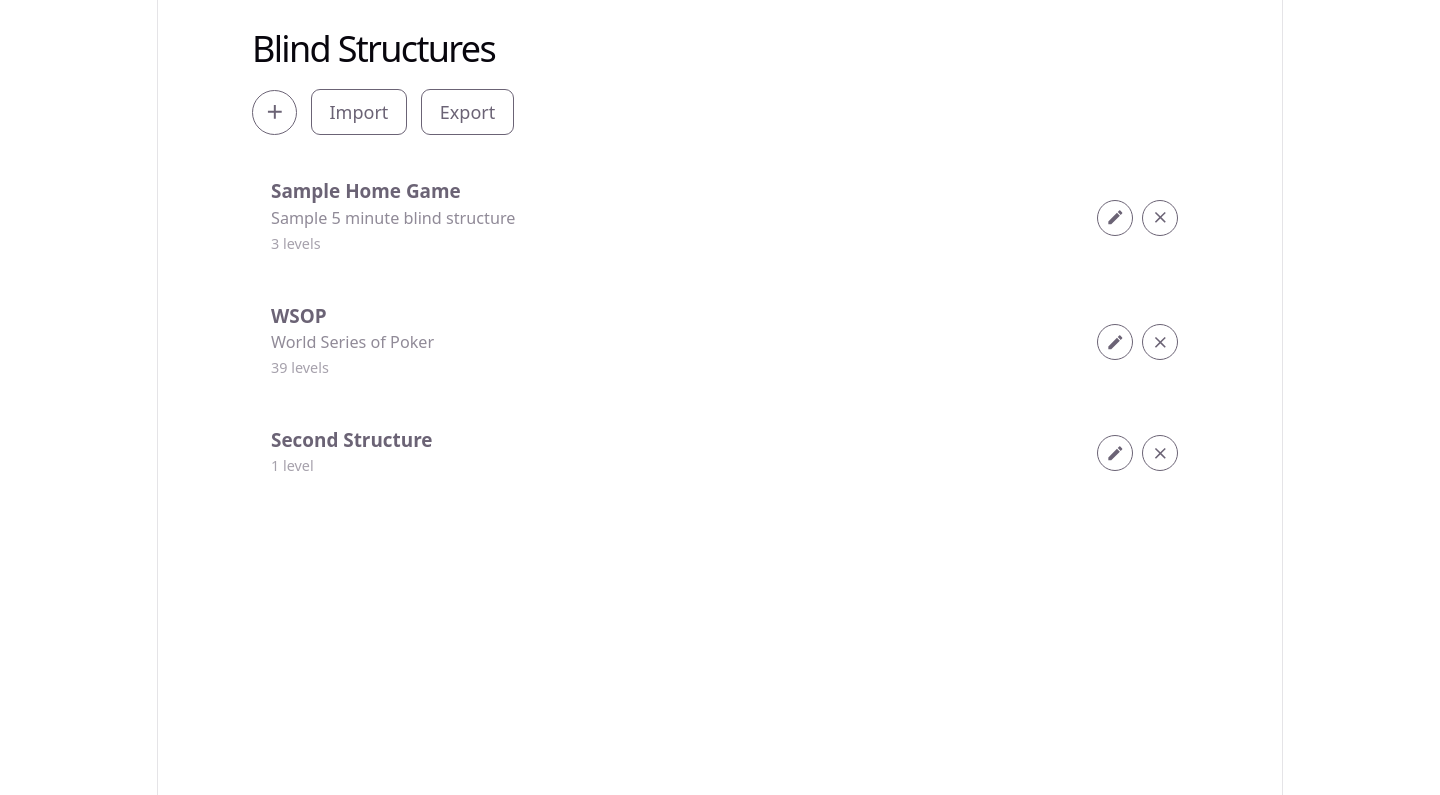
Test: SettingsPage › discards changes and proceeds when Discard is chosen in the unsaved-changes dialog
The image size is (1440, 795).
Step 1. Click the button named "Edit Sample Home Game" → [1115, 218], box [1097,200,1133,236]
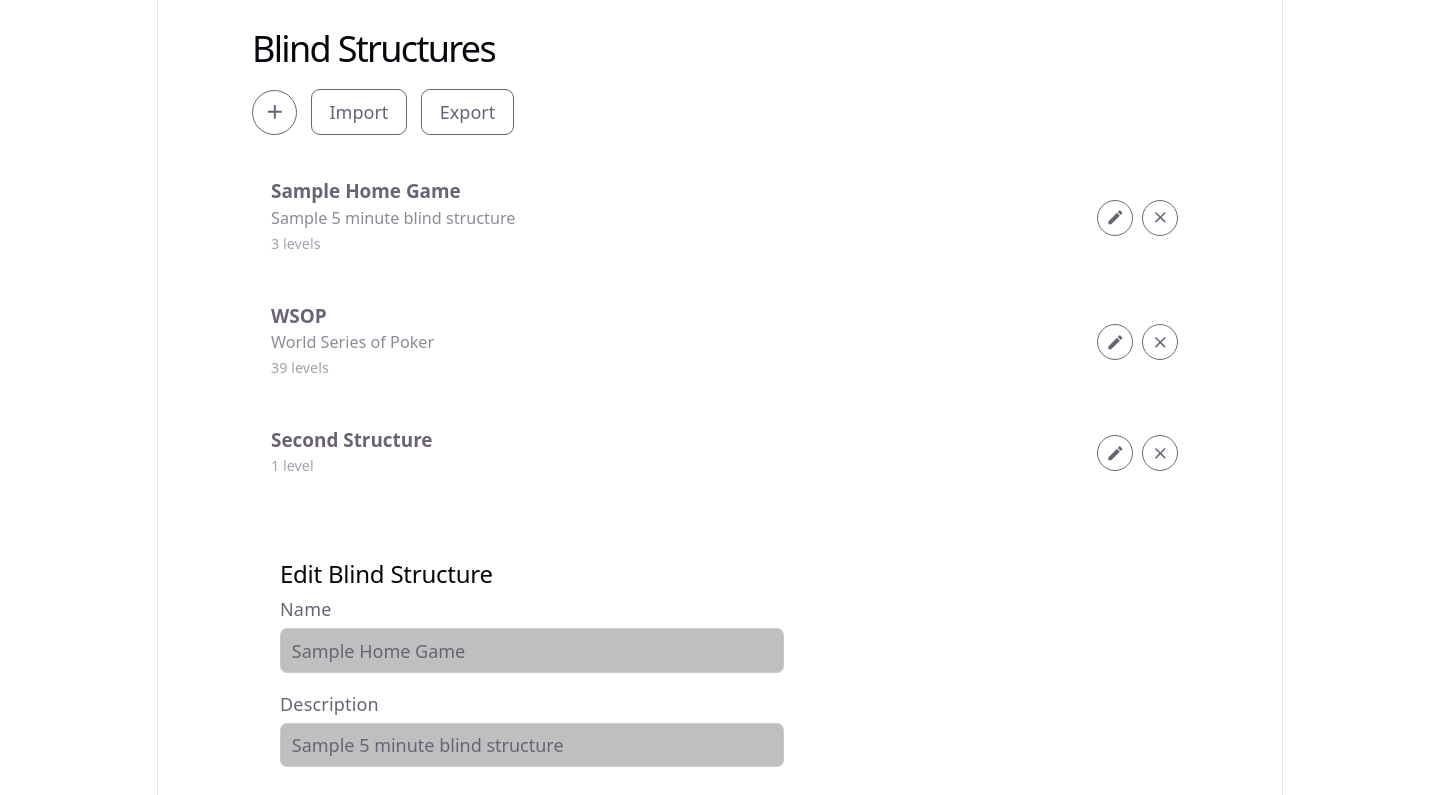
Step 2. Replace the text in the field labelled "Name" with "Sample Home Game Edited" → [532, 651], box [280,628,784,673]
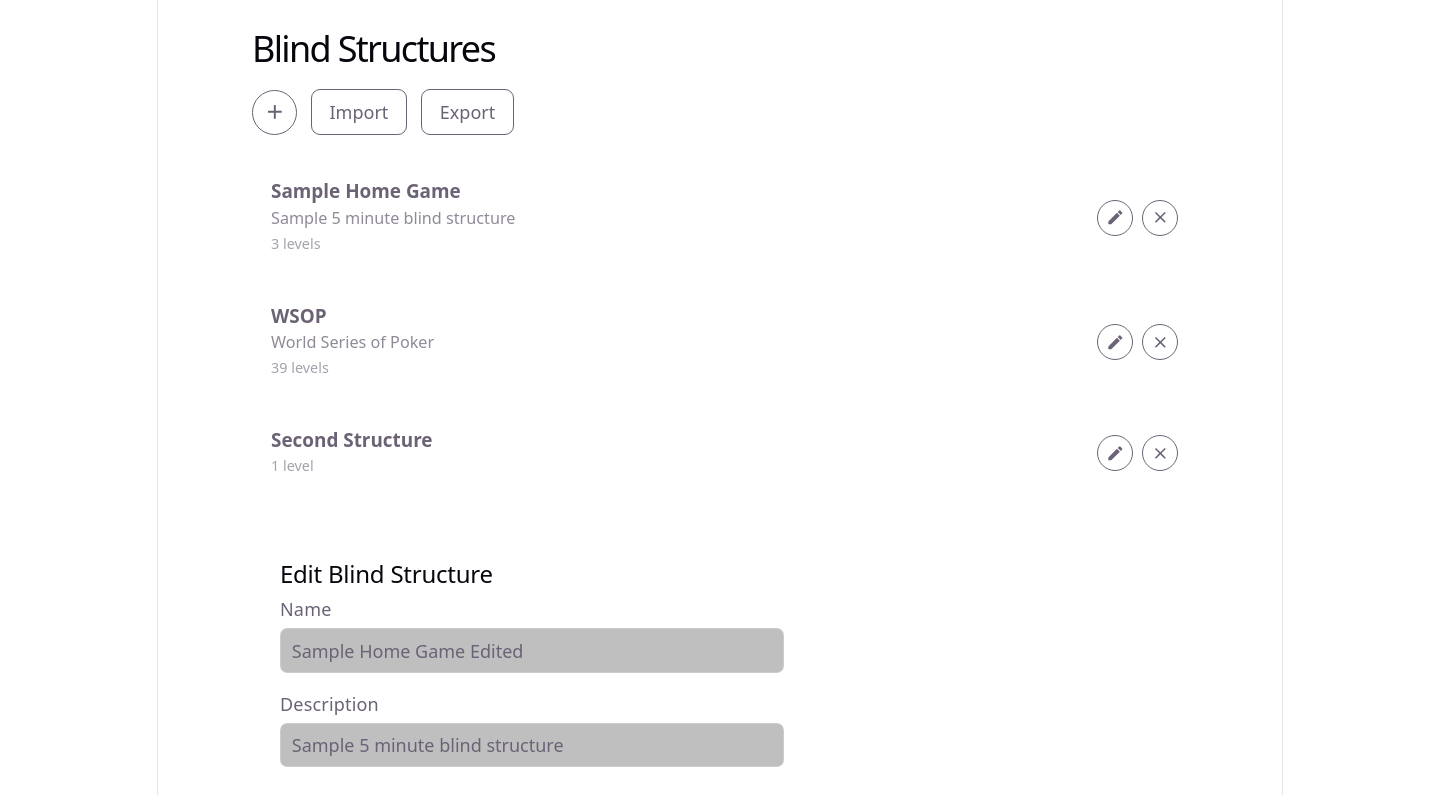
Step 3. Click the button named "Edit Second Structure" → [1115, 453], box [1097,435,1133,471]
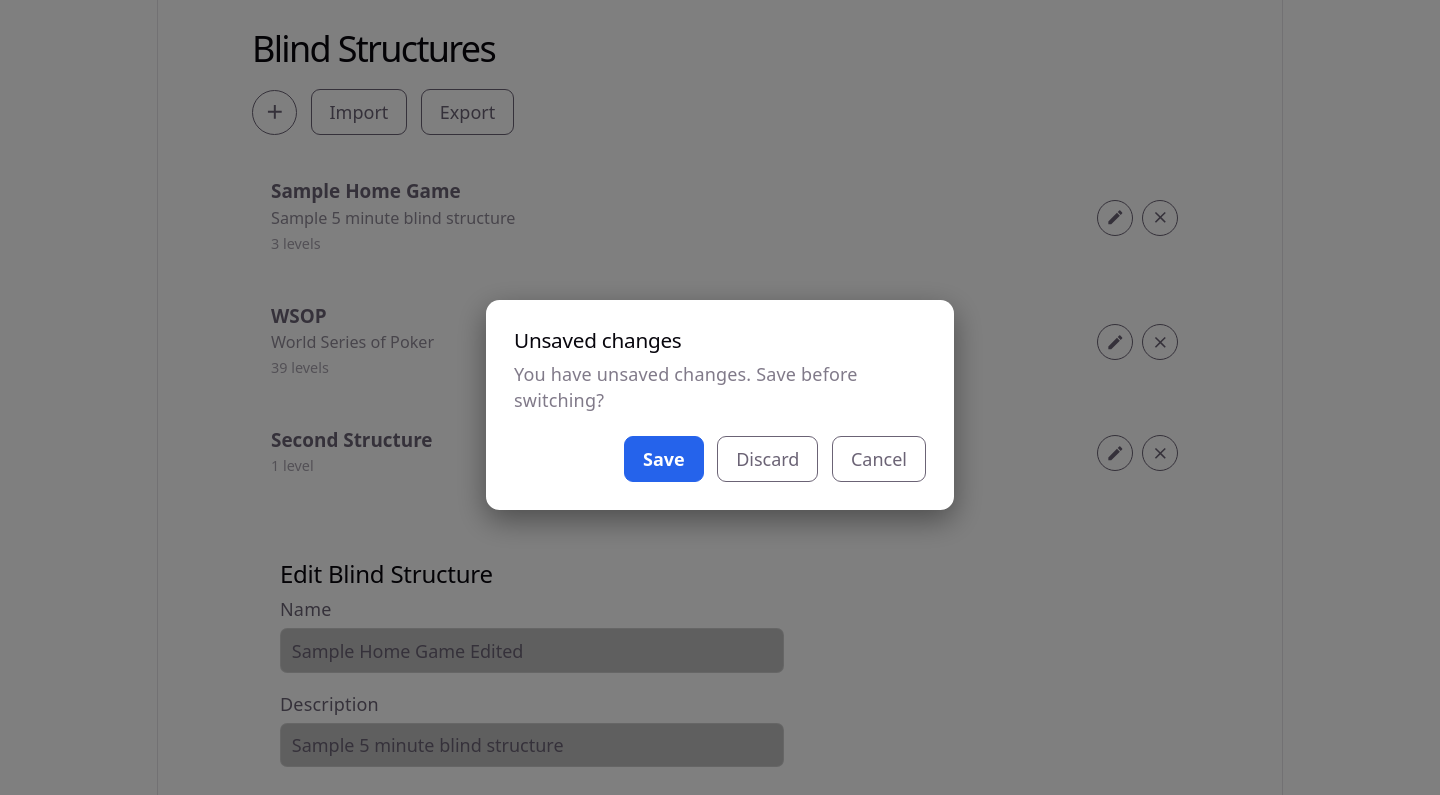
Step 4. Click the button "Discard" → [768, 459], box [717,436,818,482]
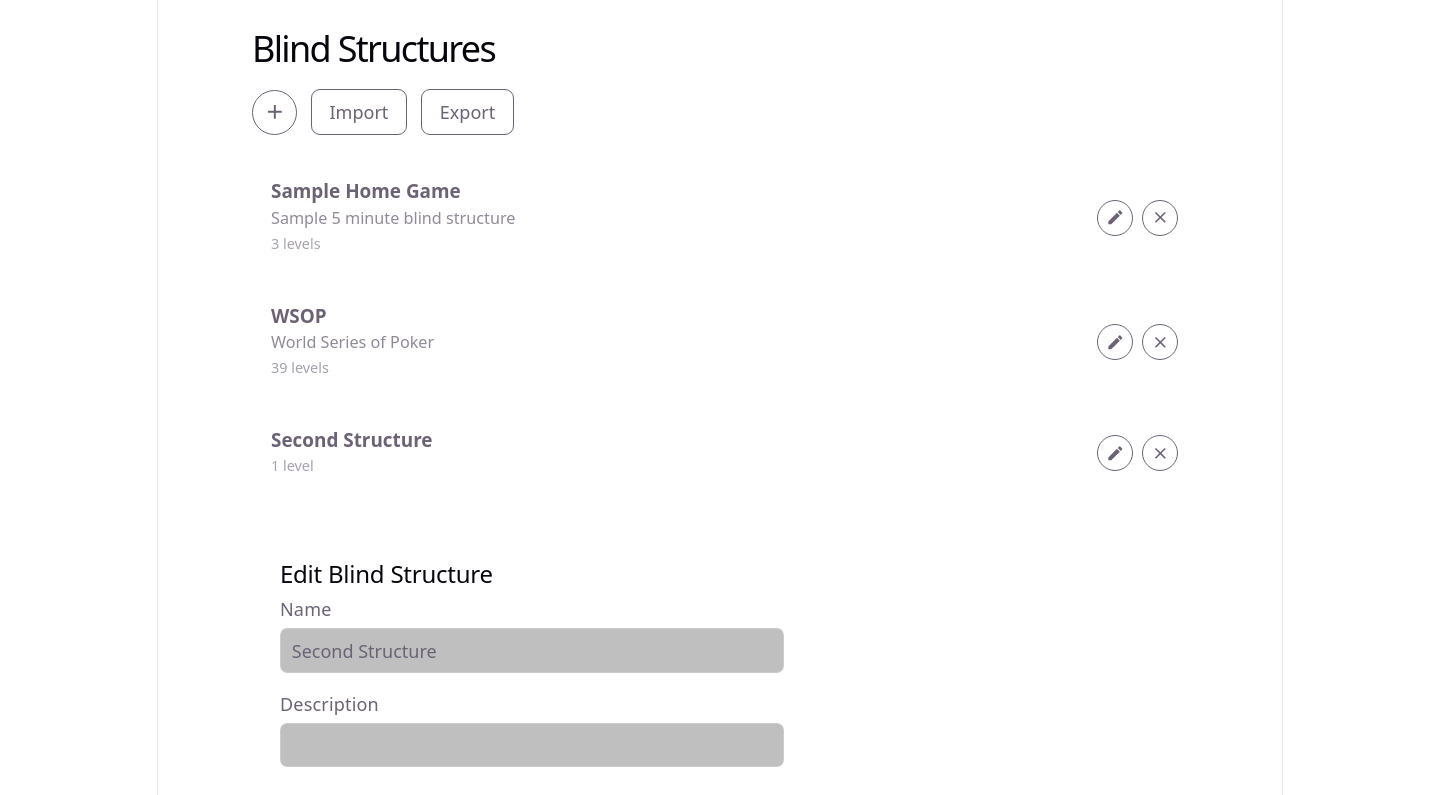
Now the heading "Edit Blind Structure" is shown, box [280,557,493,590]
Now the dialog is gone
Now the field labelled "Name" holds "Second Structure", box [280,628,784,673]
